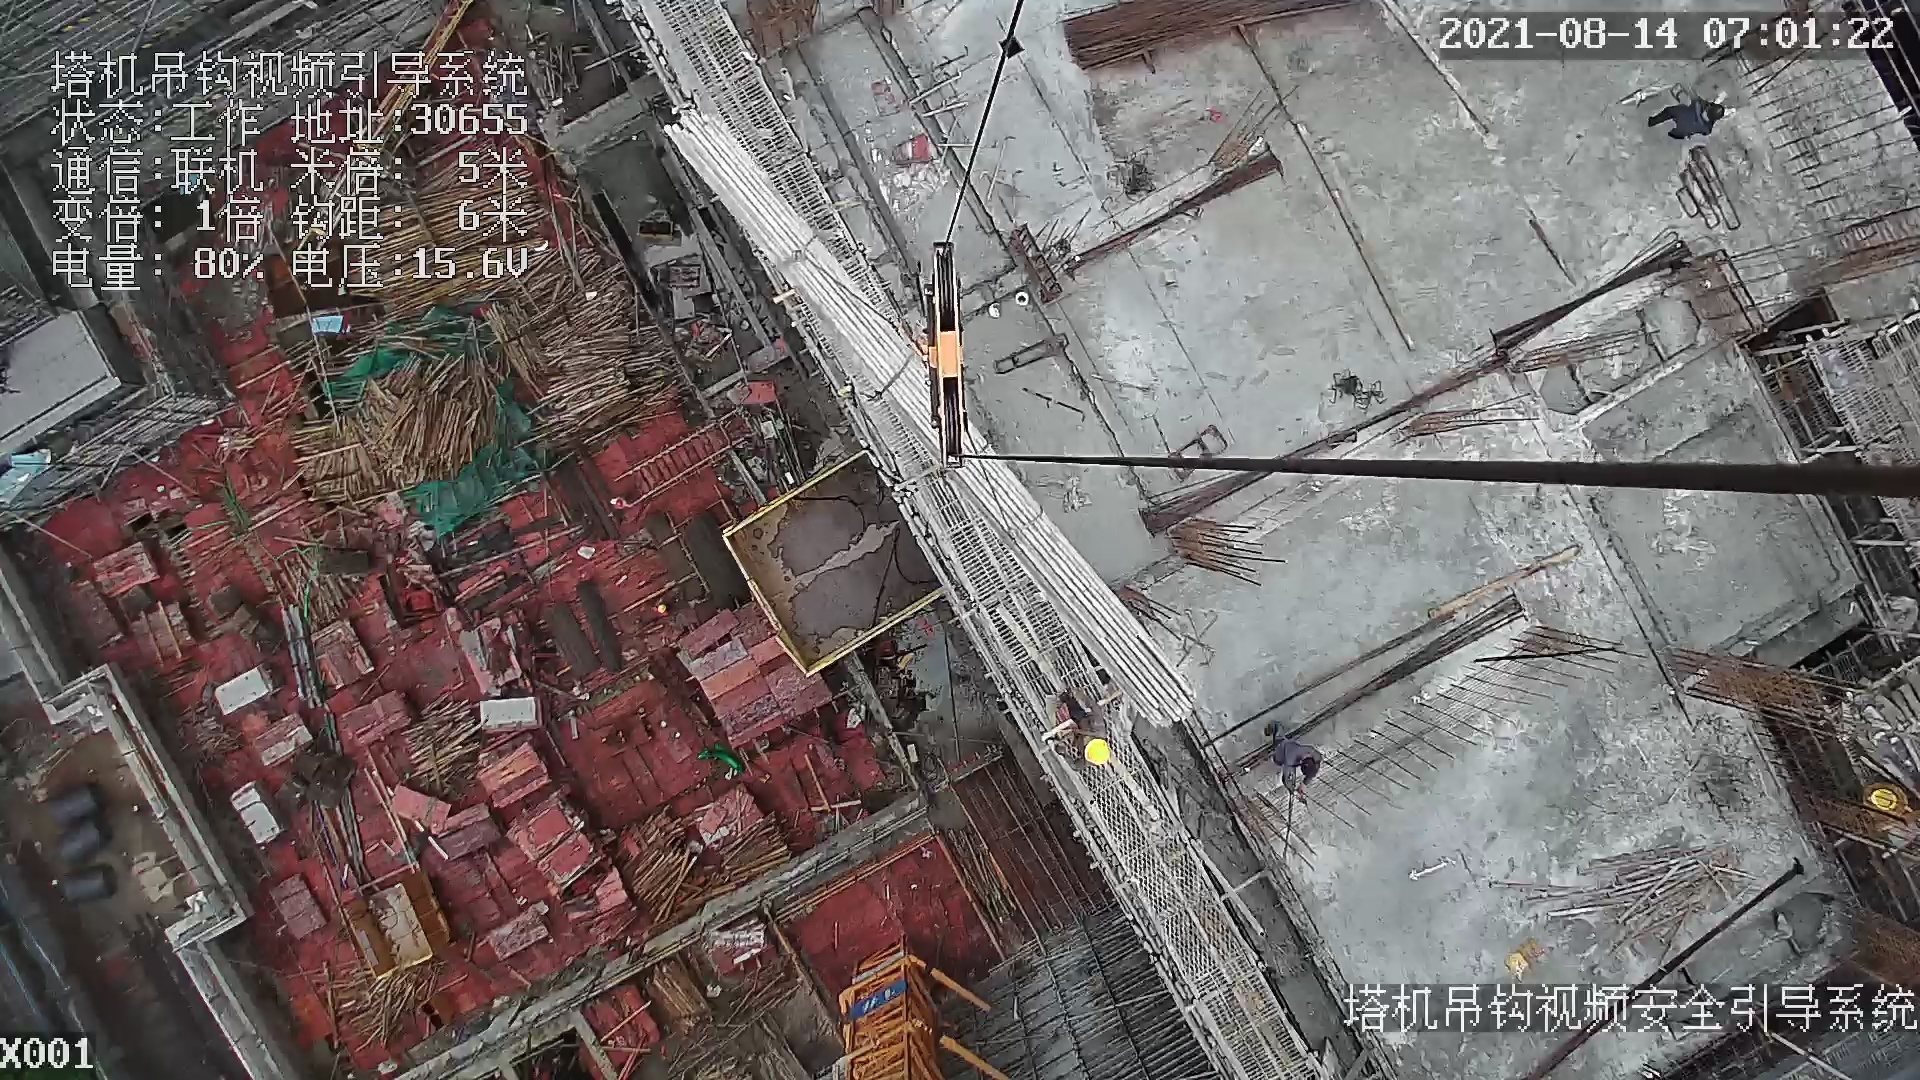helmet: (1080, 735, 1111, 768)
hook: (914, 236, 973, 473)
person: (1058, 692, 1119, 781), (1650, 83, 1731, 145), (1264, 714, 1320, 804)
